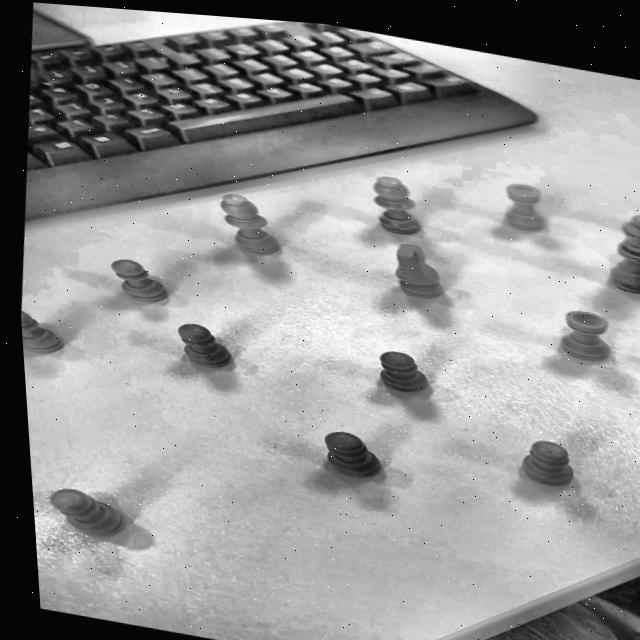white-bishop: (214, 190, 285, 257), (367, 171, 425, 236)
white-knight: (378, 237, 448, 302)
white-pawn: (37, 472, 137, 566), (320, 426, 385, 481), (172, 318, 235, 371), (518, 434, 577, 489), (108, 255, 171, 305), (375, 347, 430, 394), (21, 308, 67, 355)
white-queen: (601, 205, 640, 294)
white-rook: (556, 306, 614, 363), (501, 179, 549, 233)
